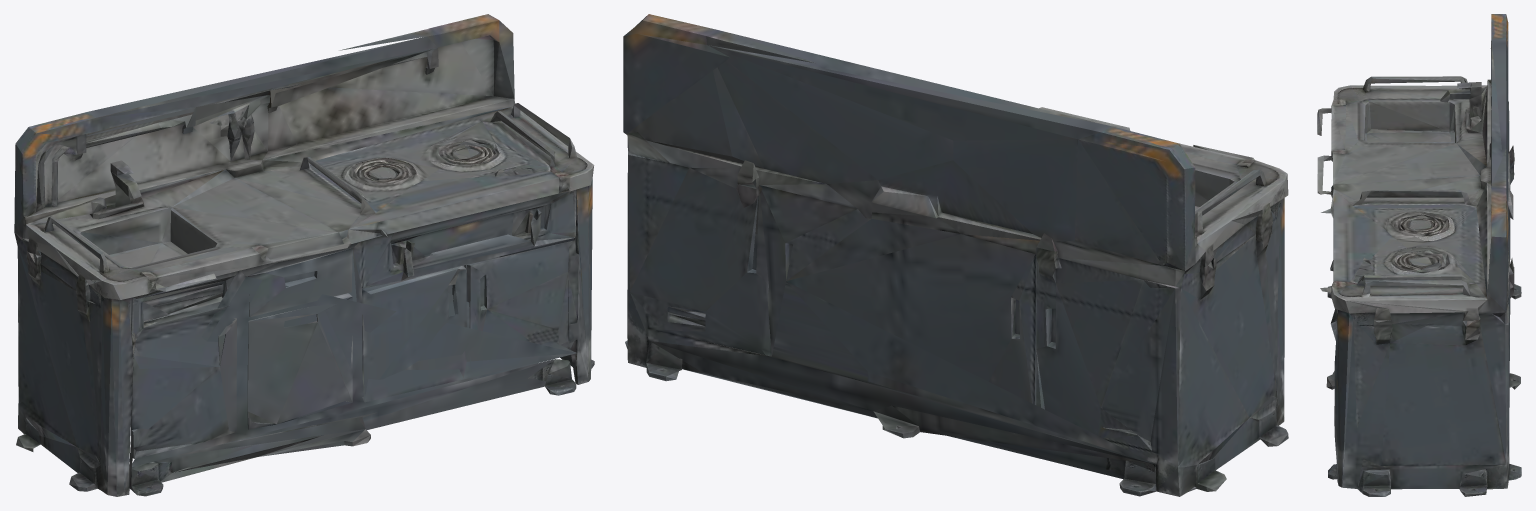
The model's file is galley.glb.
The picture shows the model from 3 angles, left to right: view 1: azimuth 30°, elevation 25°; view 2: azimuth 150°, elevation 25°; view 3: azimuth 270°, elevation 25°; orthographic projection. The views are drawn at different scales.
Parts seen in each view (by area): view 1: Mesh_0; view 2: Mesh_0; view 3: Mesh_0.
Boxes of the visible parts, x1,y1,x2,y2 form: Mesh_0: (14,14,594,496); Mesh_0: (623,14,1288,496); Mesh_0: (1317,14,1521,496).
Bounding box in the file's own units: 2.6 × 1.45 × 0.9948.
Materials: 1 (1 with a texture image).
